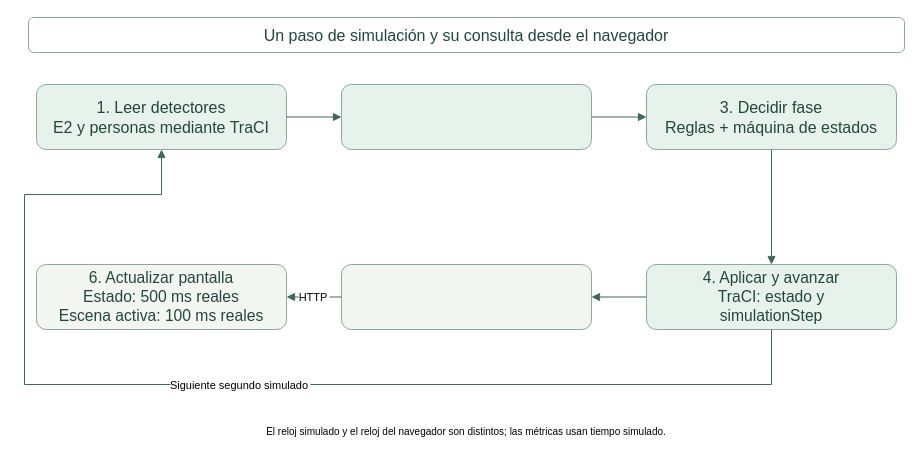
Some shapes in this 922 by 455 pixel diagram are drawn without their labels. Each missing label, with the centre of its shape:
"2. Validar observación Colas + V2I + cámara" belongs at (466,117).
"5. Registrar muestra CSV / SQLite en sesión web" belongs at (466,297).
